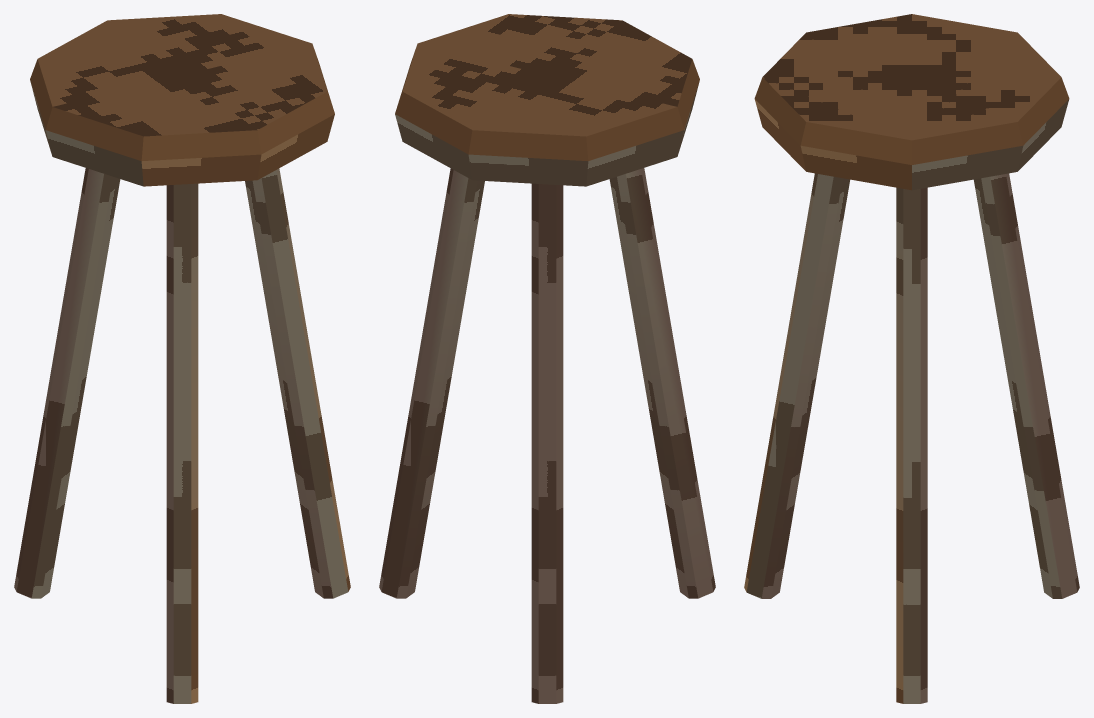
The model's file is wprop.chair__stool.glb.
3 views of the same model, side by side, from view 1: azimuth 30°, elevation 25°; view 2: azimuth 150°, elevation 25°; view 3: azimuth 270°, elevation 25° (orthographic).
Visible parts, largest first — view 1: kit_legs, kit_seat; view 2: kit_legs, kit_seat; view 3: kit_legs, kit_seat.
Part boxes in pixels (left/top/right/bottom): kit_legs: left=14, top=168, right=350, bottom=703; kit_seat: left=30, top=14, right=334, bottom=186; kit_legs: left=379, top=168, right=715, bottom=703; kit_seat: left=395, top=14, right=699, bottom=186; kit_legs: left=744, top=173, right=1079, bottom=703; kit_seat: left=754, top=14, right=1069, bottom=190.
Bounding box in the file's own units: 0.4397 × 0.7734 × 0.4264.
Materials: 2 (2 with a texture image).
